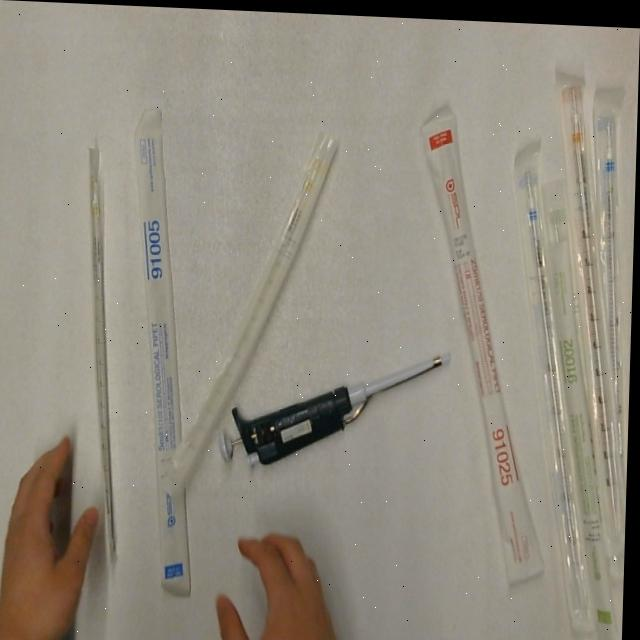Serelogical Pipet 1 mL - Sealed: (165, 120, 339, 506), (77, 145, 131, 570)
Serelogical Pipet 10 mL - Sealed: (550, 68, 639, 555)
Serelogical Pipet 2 mL - Sealed: (534, 224, 631, 635)
Serelogical Pipet 25 mL - Sealed: (410, 100, 562, 584)
Serelogical Pipet 5 mL - Sealed: (500, 132, 612, 636), (123, 101, 207, 601), (585, 75, 639, 461)
Single Channel Pipettor: (219, 337, 455, 476)
